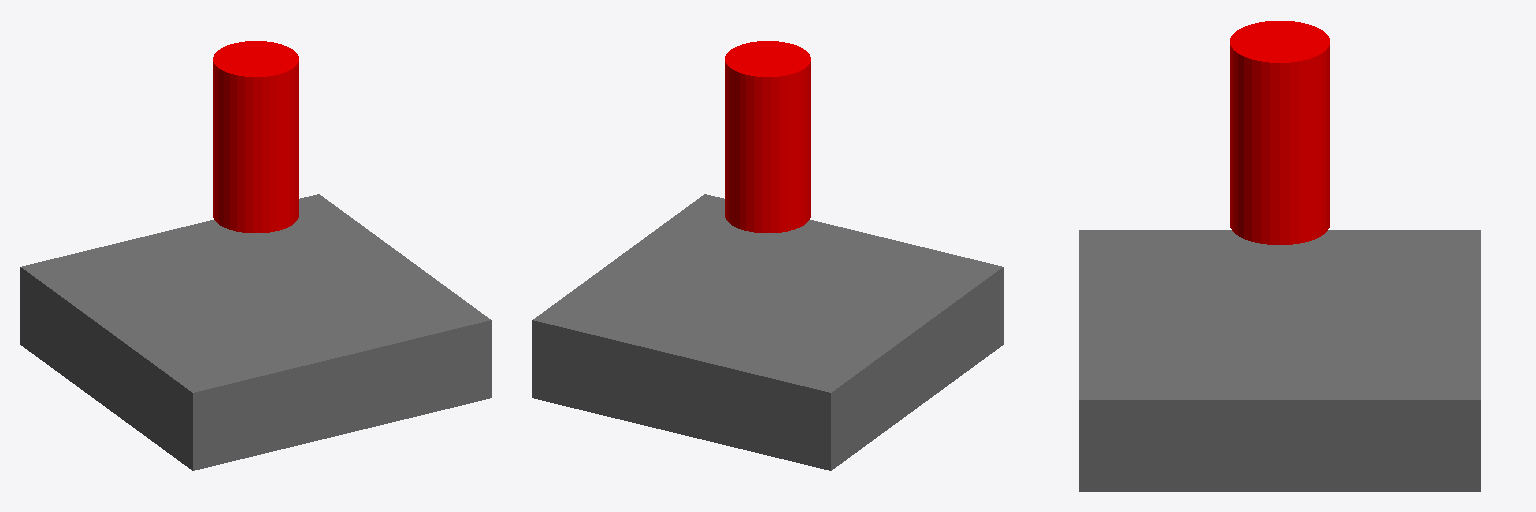
The robot description file, URDF, robot "ellipse_robot":
<?xml version="1.0"?>
<robot name="ellipse_robot">

  <link name="base_link">
    <visual>
      <geometry>
        <box size="4.0 4.0 1.0"/>
      </geometry>
      <material name="gray">
        <color rgba="0.5 0.5 0.5 1.0"/>
      </material>
    </visual>
  </link>

  <link name="pan_link">
    <visual>
      <geometry>
        <mesh filename="package://robot_control/meshes/Ellipse.dae"/>
      </geometry>
      <origin rpy="0 1.57 0" xyz="0 0 0"/> 
      <material name="blue">
        <color rgba="0.0 0.0 1.0 1.0"/>
      </material>
    </visual>
  </link>

  <link name="tilt_link">
    <visual>
      <geometry>
        <cylinder length="2.0" radius="0.5"/>
      </geometry>
      <origin rpy="0 0 0" xyz="0 0 1.0"/>
      <material name="red">
        <color rgba="1.0 0.0 0.0 1.0"/>
      </material>
    </visual>
  </link>
  
  <joint name="pan_joint" type="revolute">
    <parent link="base_link"/>
    <child link="pan_link"/>
    <origin rpy="0 0 0" xyz="0 0 0.5"/>
    <axis xyz="0 0 1" /> 
    <limit effort="30" velocity="1.0" lower="-3.14" upper="3.14"/>
  </joint>

  <joint name="tilt_joint" type="revolute">
    <parent link="pan_link"/>
    <child link="tilt_link"/>
    <origin rpy="0 0 0" xyz="0 0 1.0"/>
    <axis xyz="0 1 0" /> 
    <limit effort="30" velocity="1.0" lower="-1.57" upper="1.57"/>
  </joint>

</robot>

--- What the picture shows (computed from the rendered views, not written in the file) ---
Views: 3 orthographic renders of the robot side by side, from view 1: azimuth 30°, elevation 25°; view 2: azimuth 150°, elevation 25°; view 3: azimuth 270°, elevation 25°.
Model ellipse_robot with 3 links and 2 joints (2 revolute), rooted at base_link, posed every joint at zero.
Visible links, largest first — view 1: base_link, tilt_link; view 2: base_link, tilt_link; view 3: base_link, tilt_link.
Link boxes in pixels (x1,y1,x2,y2): base_link: [20, 194, 491, 470]; tilt_link: [213, 41, 298, 232]; base_link: [532, 194, 1003, 470]; tilt_link: [725, 41, 810, 232]; base_link: [1079, 230, 1480, 491]; tilt_link: [1230, 21, 1329, 244].
Size in the robot's own frame: 4 by 4 by 4 metres.
Meshes: 1 distinct files referenced, 0 mesh visuals loaded (none loaded); not drawn: 1 (reference not matched to a file when rendering).
